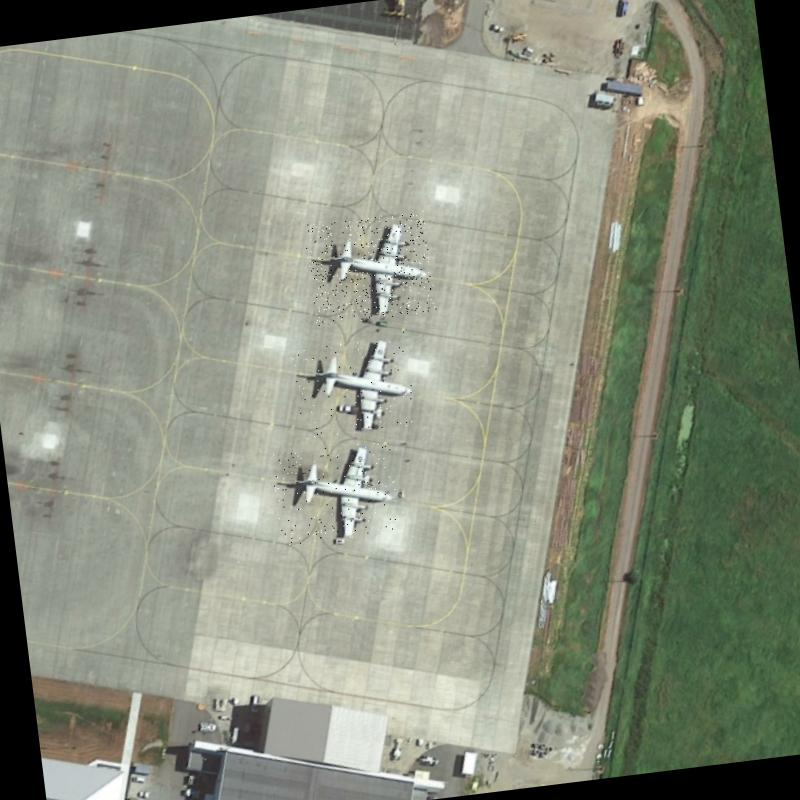A9: (302, 209, 436, 326), (288, 330, 420, 440), (270, 439, 400, 546)
